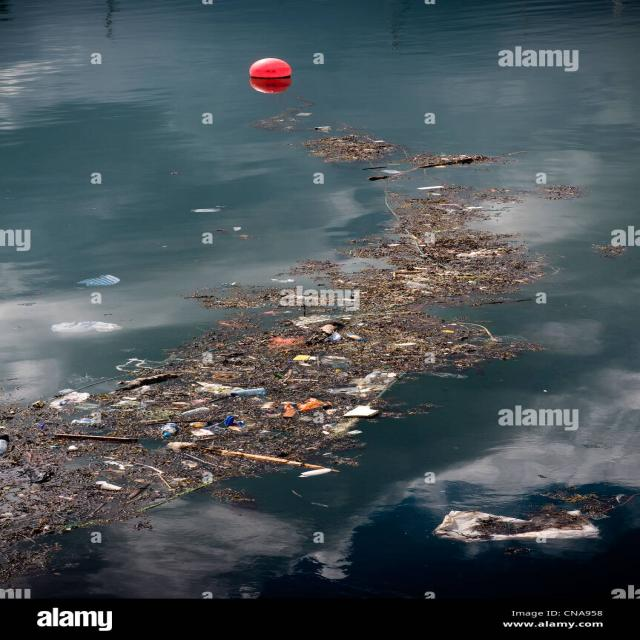plastic watse: (0, 183, 581, 585)
